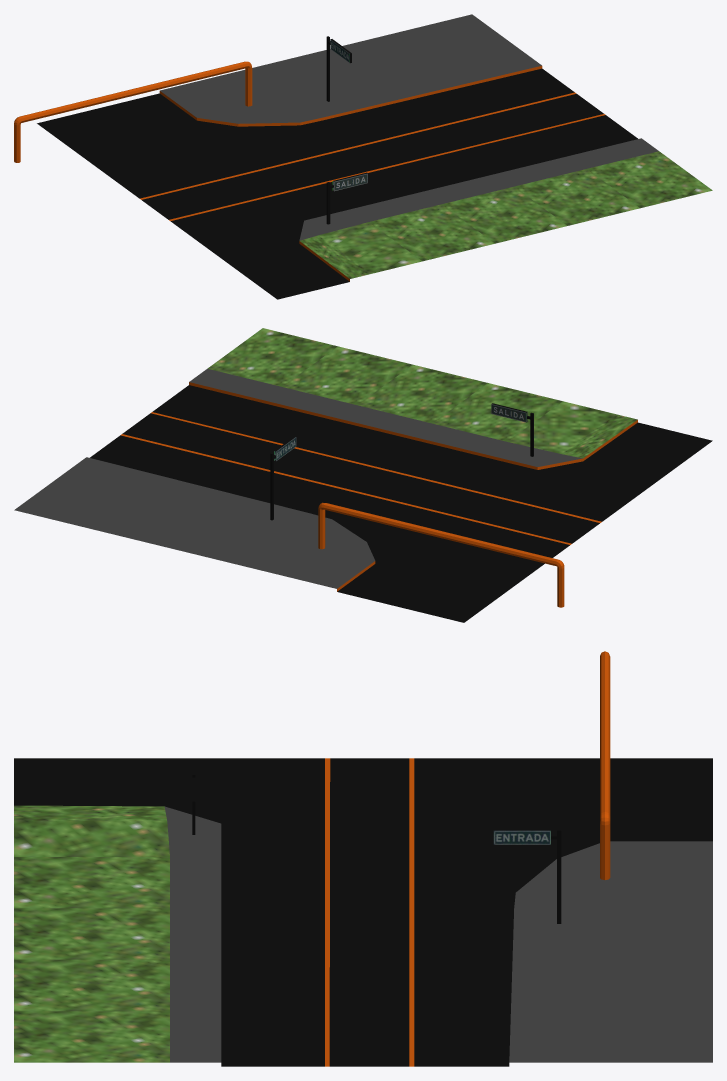
The model's file is 08_sept_r.obj.
3 renders of one model, top to bottom at view 1: azimuth 30°, elevation 25°; view 2: azimuth 150°, elevation 25°; view 3: azimuth 270°, elevation 25°, orthographic. The views are drawn at different scales.
Size of the model in its own units: 18.19 by 2.35 by 15.32.
